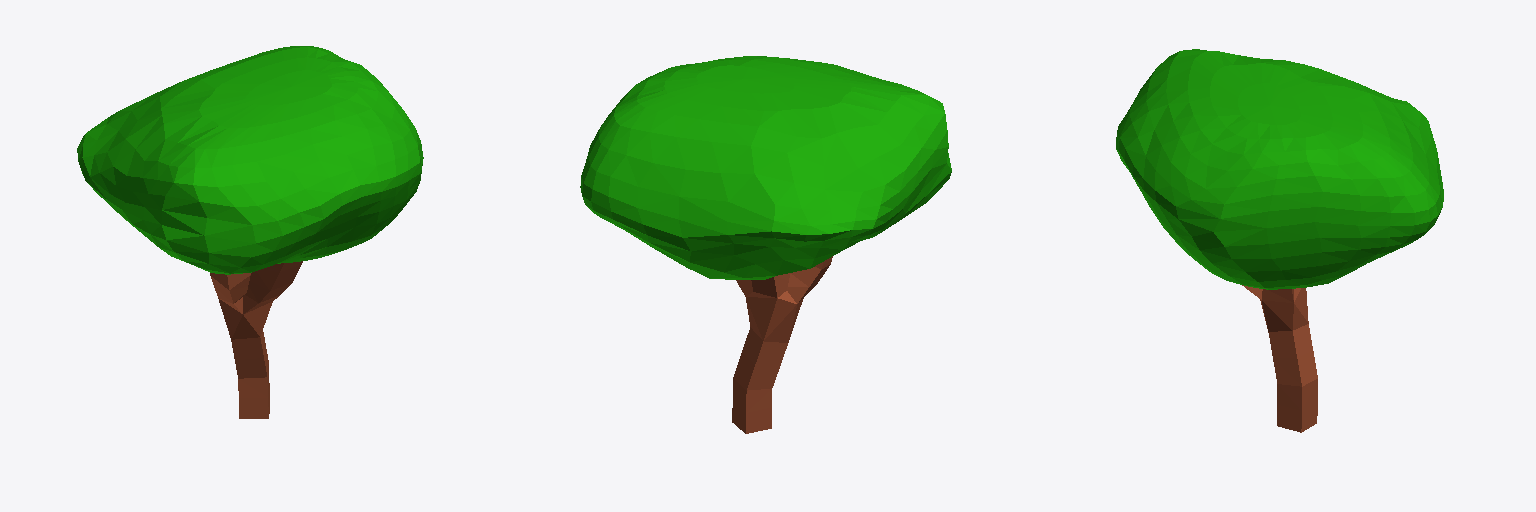
The model's file is tree.obj.
3 views of the same model, side by side, from view 1: azimuth 30°, elevation 25°; view 2: azimuth 150°, elevation 25°; view 3: azimuth 270°, elevation 25° (orthographic).
Visible parts, largest first — view 1: Sphere; view 2: Sphere; view 3: Sphere.
Boxes of the visible parts, x1=… form: Sphere: x1=77, y1=46, x2=423, y2=418; Sphere: x1=580, y1=56, x2=951, y2=433; Sphere: x1=1116, y1=49, x2=1443, y2=432.
Bounding box in the file's own units: 5.38 × 6.19 × 5.57.